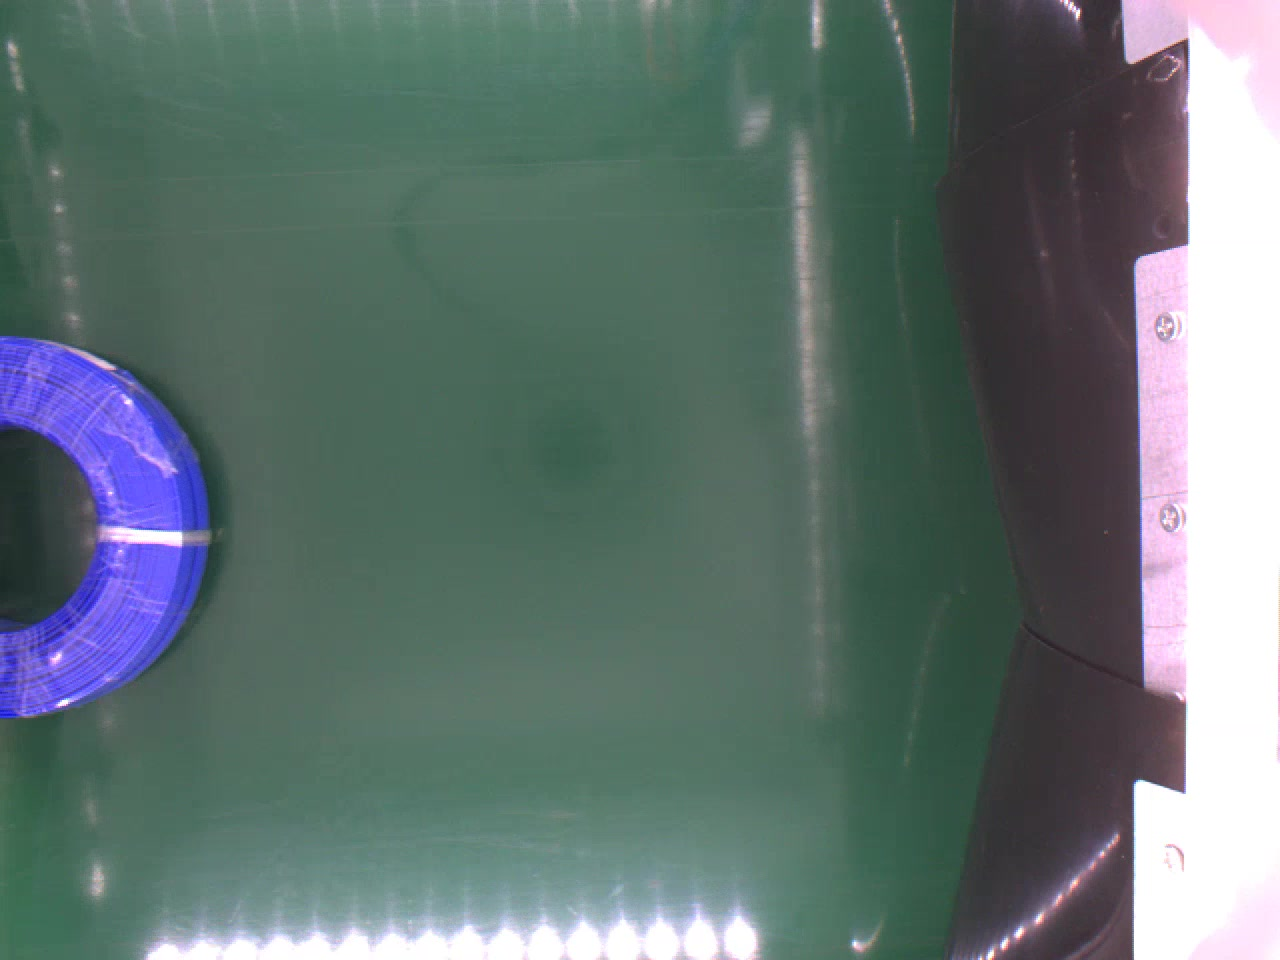blue: (0, 333, 214, 723)
